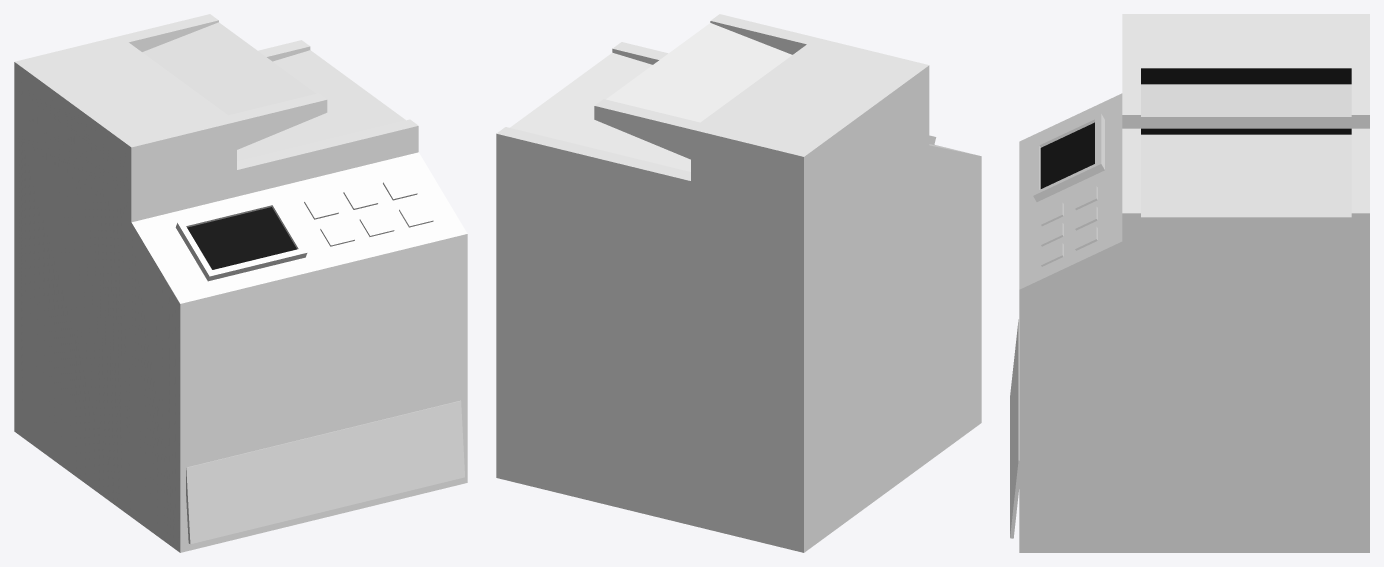
Rendered from printer-big.fbx.
3 renders of one model, left to right at view 1: azimuth 30°, elevation 25°; view 2: azimuth 150°, elevation 25°; view 3: azimuth 270°, elevation 25°, orthographic. The views are drawn at different scales.
Parts seen in each view (by area): view 1: printer; view 2: printer; view 3: printer.
Boxes of the visible parts, box(x1,y1,x2,y2) form: printer: box(14, 14, 467, 552); printer: box(496, 14, 981, 552); printer: box(1010, 14, 1369, 552).
Bounding box in the file's own units: 0.7797 × 0.9588 × 0.8004.
1 material, 1 textured.
